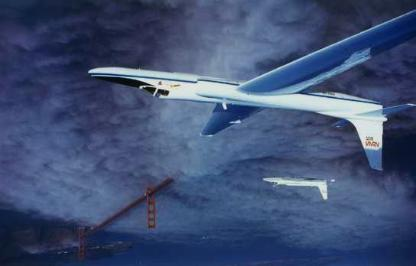Tu160: (86, 6, 414, 172), (262, 175, 336, 201)
